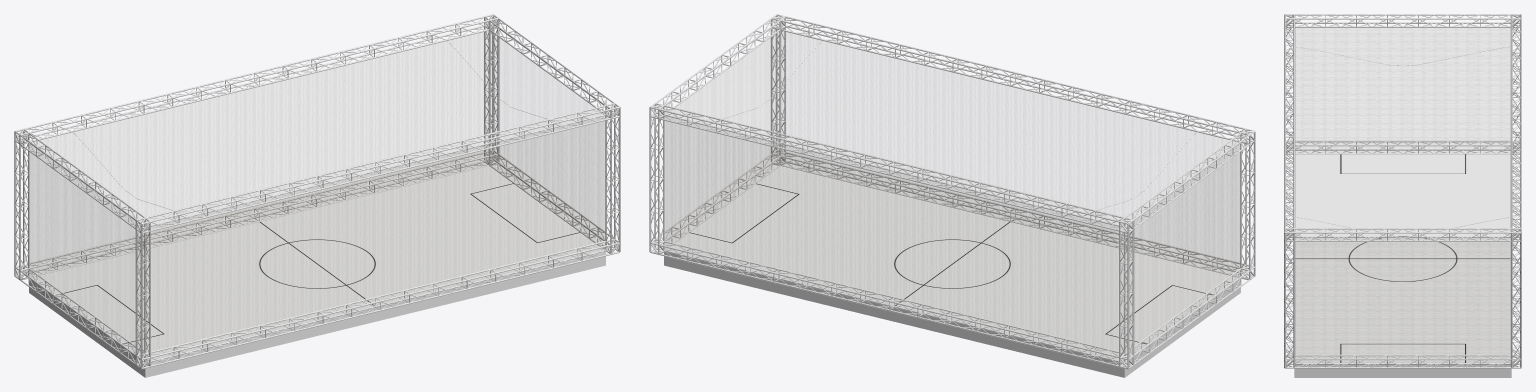
The model's file is area.glb.
3 renders of one model, left to right at view 1: azimuth 30°, elevation 25°; view 2: azimuth 150°, elevation 25°; view 3: azimuth 270°, elevation 25°, orthographic. The views are drawn at different scales.
Parts seen in each view (by area): view 1: surface, Portal_Test, fence-texture.net; view 2: surface, Portal_Test, fence-texture.net; view 3: surface, Portal_Test, fence-texture.net, Goal-Cable.001.
Boxes of the visible parts, x1,y1,x2,y2 form: surface: (29, 166, 605, 377); Portal_Test: (14, 14, 620, 369); fence-texture.net: (30, 60, 604, 348); surface: (664, 166, 1240, 377); Portal_Test: (649, 14, 1255, 369); fence-texture.net: (665, 35, 1240, 348); surface: (1294, 154, 1511, 377); Portal_Test: (1284, 14, 1521, 368); fence-texture.net: (1300, 29, 1509, 362); Goal-Cable.001: (1295, 46, 1510, 65).
Bounding box in the file's own units: 16.66 × 5.33 × 7.66.
4 materials, 2 textured.
